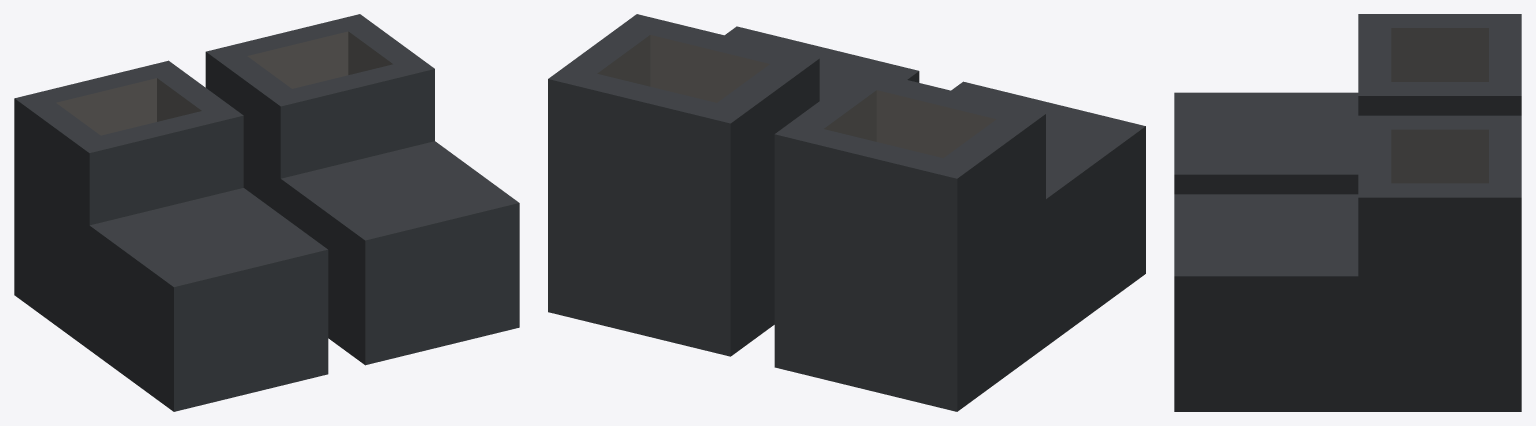
File: ShoeBoots3.glb
The picture shows the model from 3 angles, left to right: view 1: azimuth 30°, elevation 25°; view 2: azimuth 150°, elevation 25°; view 3: azimuth 270°, elevation 25°; orthographic projection. The views are drawn at different scales.
Parts seen in each view (by area): view 1: SI_Prop_Shoe_Boots_03; view 2: SI_Prop_Shoe_Boots_03; view 3: SI_Prop_Shoe_Boots_03.
Boxes of the visible parts, x1,y1,x2,y2 form: SI_Prop_Shoe_Boots_03: [14, 14, 519, 411]; SI_Prop_Shoe_Boots_03: [548, 14, 1145, 411]; SI_Prop_Shoe_Boots_03: [1174, 14, 1521, 411].
Bounding box in the file's own units: 0.00458 × 0.0025 × 0.00366.
Materials: 1 (1 with a texture image).
